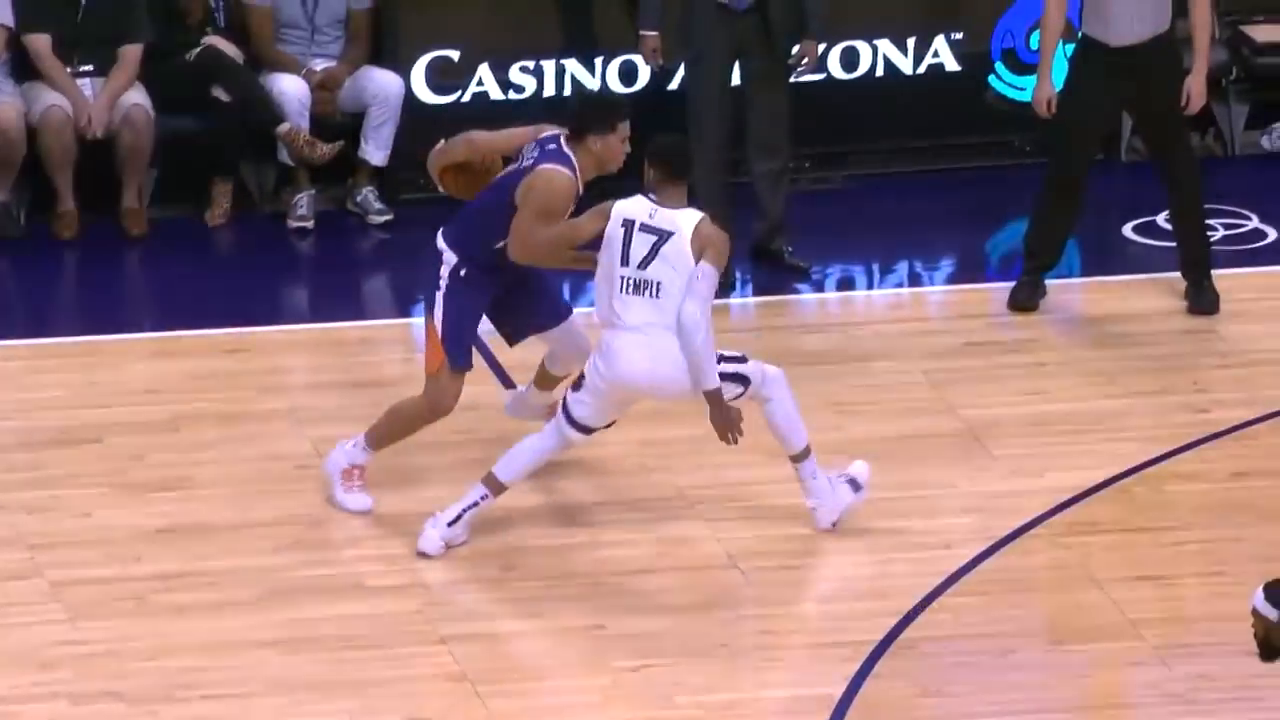ball: (434, 137, 512, 200)
